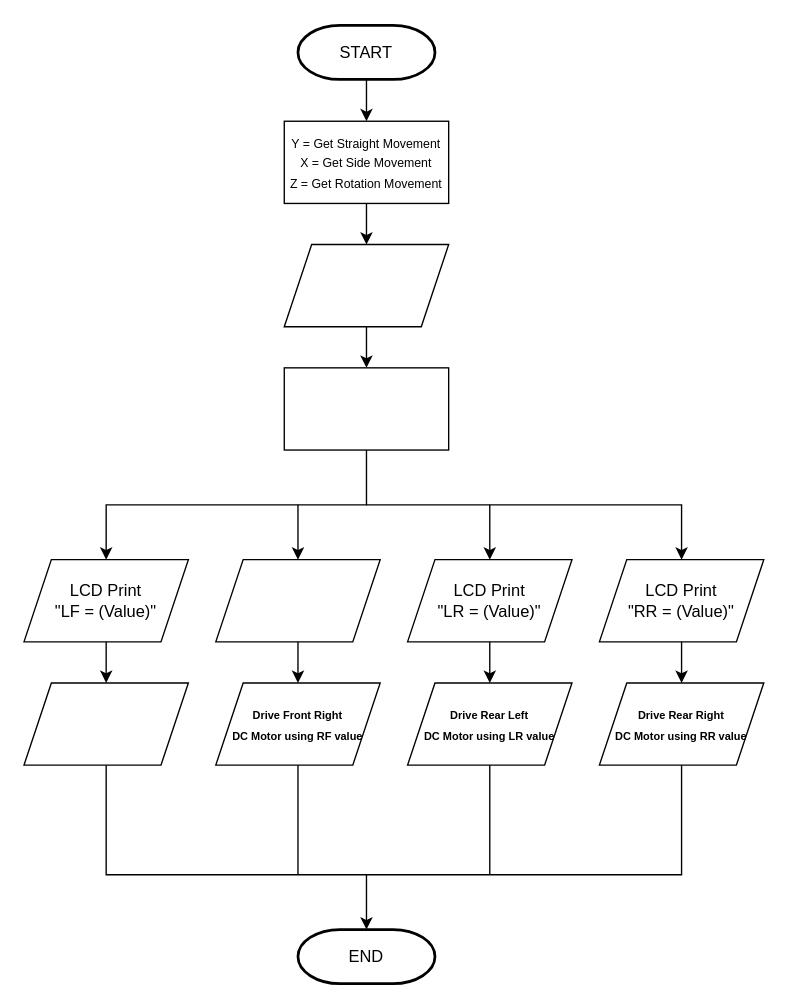
Some shapes in this 788 by 1008 pixel diagram are drawn without their labels. The shapes that lost their labels are listed below. From the top down, each one's box as (x1, y1, x2, y2) in pixels, then its label:
(283, 243, 449, 327): LCD Print "Y = (Value) X = (Value) Z = (Value)"
(283, 366, 449, 450): LF = Y + X + Z RF = Y - X - Z LR = Y + X - Z RR = Y - X + Z
(214, 558, 380, 642): LCD Print "RF = (Value) "
(23, 682, 188, 765): Drive Front Left DC Motor using LF value
